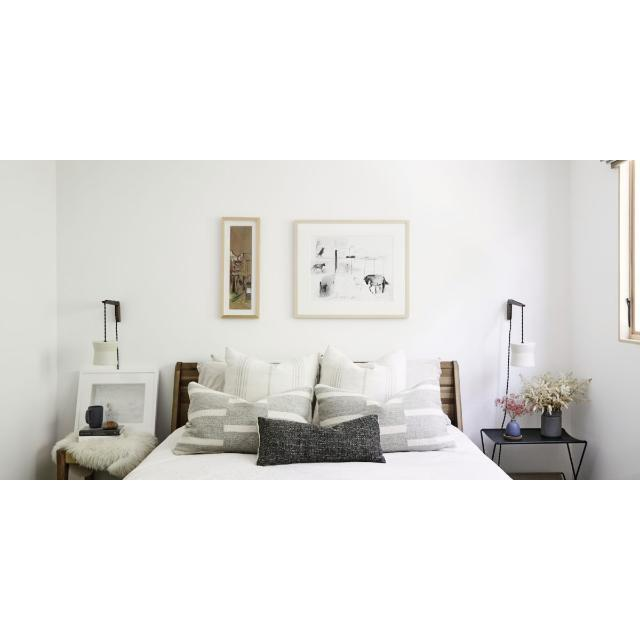pillow: (317, 375, 454, 454), (175, 383, 314, 455), (259, 410, 384, 466)
